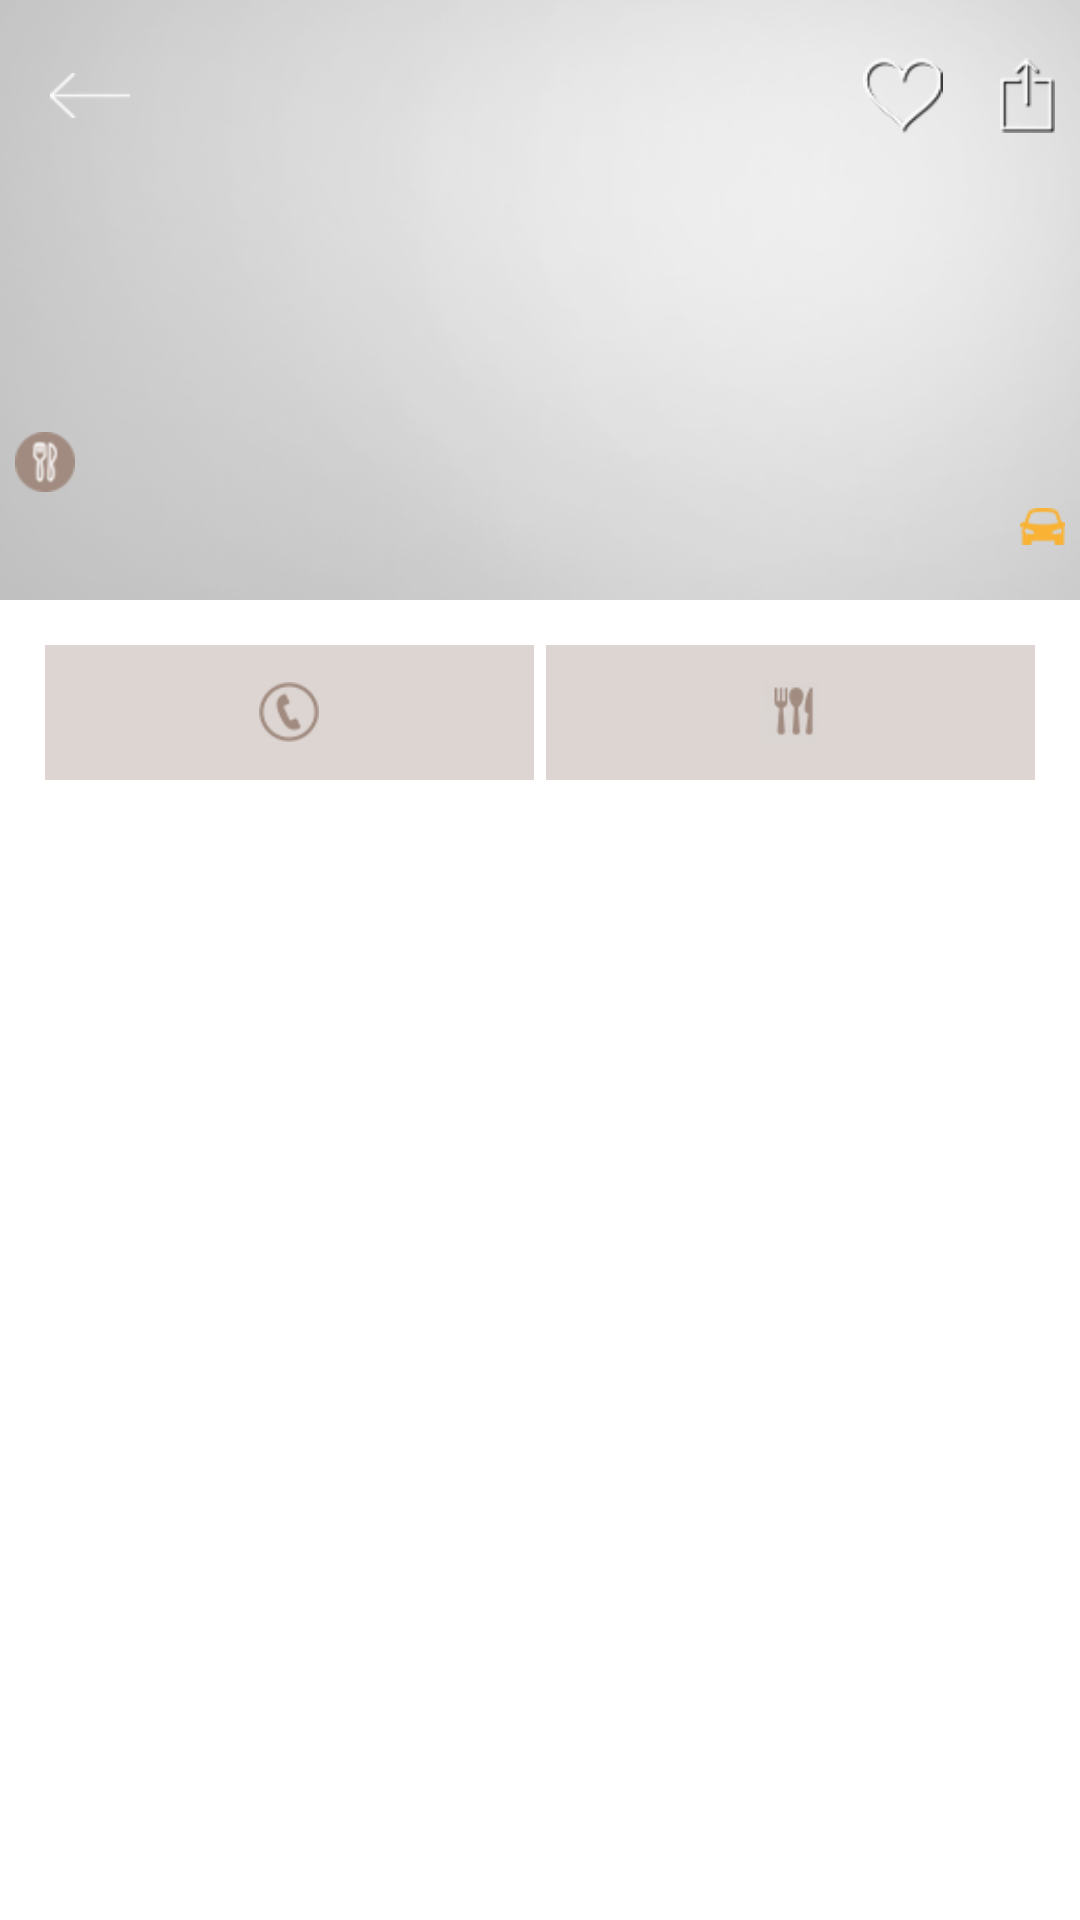

Icon bounding boxes for this 1080px×1920px phone screenshot, format (x1, y1, x2, y2):
circle restaurant: (15, 432, 75, 492)
detailedfavorite: (867, 62, 943, 133)
leftarrow: (50, 73, 130, 118)
phone restaurant: (259, 682, 319, 742)
restaurant: (774, 687, 813, 735)
transport car: (1020, 508, 1065, 545)
upload: (1002, 61, 1055, 133)
